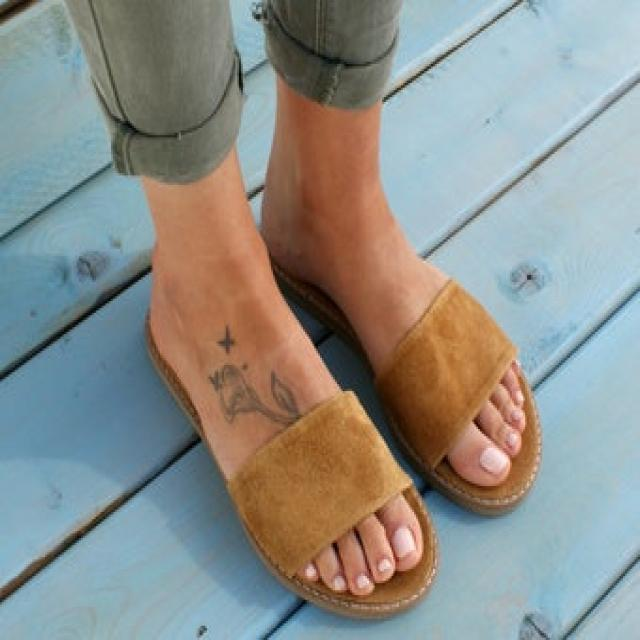Sandals: (139, 234, 440, 618)
